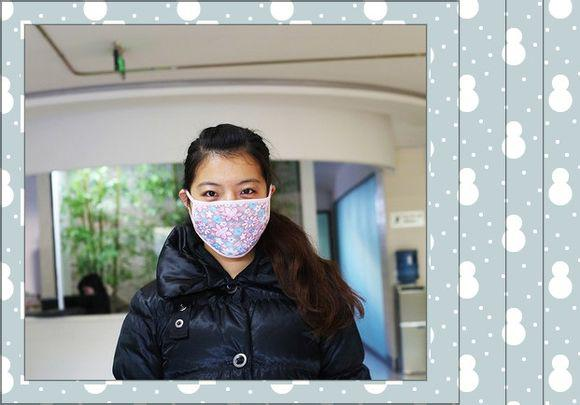OK: (188, 171, 270, 256)
